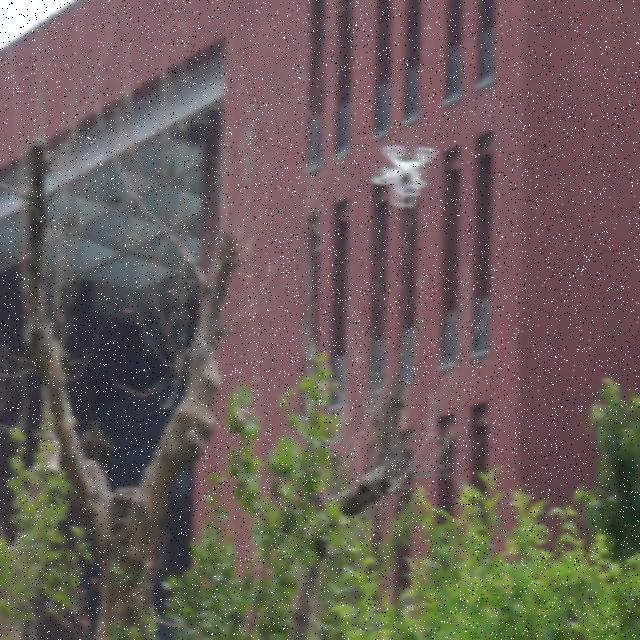UAV: (370, 144, 440, 208)
